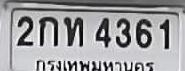1: (159, 18, 168, 48)
2: (16, 15, 32, 45)
3: (115, 17, 130, 47)
4: (95, 17, 110, 47)
6: (135, 18, 151, 47)
A01: (38, 16, 57, 46)
A23: (63, 16, 82, 46)
BKK: (32, 57, 156, 71)
